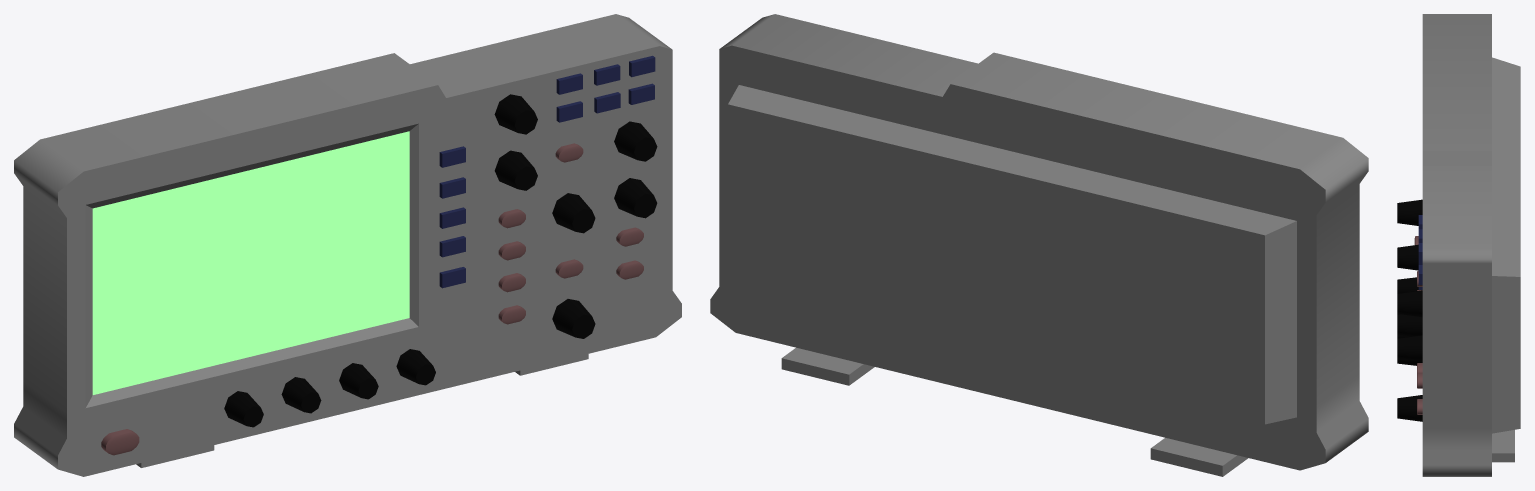
The model's file is Oscilador.fbx.
The picture shows the model from 3 angles, left to right: view 1: azimuth 30°, elevation 25°; view 2: azimuth 150°, elevation 25°; view 3: azimuth 270°, elevation 25°; orthographic projection. The views are drawn at different scales.
Visible parts, largest first — view 1: Oscilador.001, Oscilador.003, Oscilador.002, Oscilador, Oscilador.004; view 2: Oscilador.001; view 3: Oscilador.001, Oscilador.002, Oscilador, Oscilador.004.
Boxes of the visible parts, x1,y1,x2,y2 form: Oscilador.001: [14, 14, 681, 476]; Oscilador.003: [92, 131, 409, 394]; Oscilador.002: [224, 94, 657, 427]; Oscilador: [439, 55, 655, 288]; Oscilador.004: [101, 143, 643, 455]; Oscilador.001: [710, 14, 1368, 476]; Oscilador.001: [1422, 14, 1520, 476]; Oscilador.002: [1397, 199, 1422, 421]; Oscilador: [1418, 215, 1422, 289]; Oscilador.004: [1414, 236, 1422, 414].
Size of the model in its own units: 47.46 by 23.02 by 10.25.
